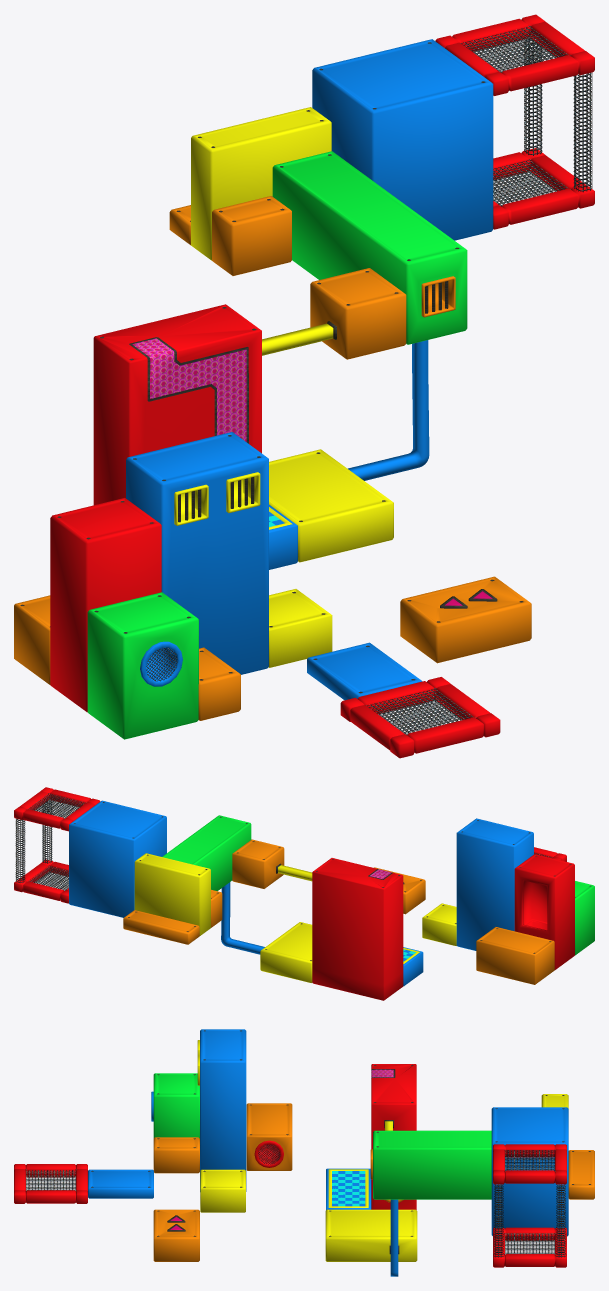
File: ToyFactoryStartPlanet.obj
The picture shows the model from 3 angles, top to bottom: view 1: azimuth 30°, elevation 25°; view 2: azimuth 150°, elevation 25°; view 3: azimuth 270°, elevation 25°; orthographic projection. The views are drawn at different scales.
Visible parts, largest first — view 1: Plane.000_Plane.094, Plane.006_Plane.107, Plane.008_Plane.109, Plane.007_Plane.108, Plane.004_Plane.105, Plane.003_Plane.104, Plane.002_Plane.103, Plane.001_Plane.102; view 2: Plane.006_Plane.107, Plane.000_Plane.094, Plane.007_Plane.108, Plane.004_Plane.105, Plane.008_Plane.109, Plane.003_Plane.104; view 3: Plane.000_Plane.094, Plane.008_Plane.109, Plane.006_Plane.107, Plane.004_Plane.105, Plane.007_Plane.108, Plane.003_Plane.104, Plane.005_Plane.106, Plane.001_Plane.102.
Part boxes in pixels (x1=…): Plane.000_Plane.094: x1=126, y1=39, x2=493, y2=700; Plane.006_Plane.107: x1=50, y1=14, x2=594, y2=758; Plane.008_Plane.109: x1=87, y1=151, x2=467, y2=739; Plane.007_Plane.108: x1=174, y1=107, x2=393, y2=667; Plane.004_Plane.105: x1=14, y1=196, x2=531, y2=720; Plane.003_Plane.104: x1=146, y1=26, x2=592, y2=734; Plane.002_Plane.103: x1=132, y1=338, x2=492, y2=605; Plane.001_Plane.102: x1=20, y1=42, x2=523, y2=693; Plane.006_Plane.107: x1=14, y1=787, x2=574, y2=1000; Plane.000_Plane.094: x1=69, y1=800, x2=533, y2=986; Plane.007_Plane.108: x1=134, y1=853, x2=456, y2=982; Plane.004_Plane.105: x1=123, y1=839, x2=554, y2=984; Plane.008_Plane.109: x1=162, y1=815, x2=594, y2=955; Plane.003_Plane.104: x1=15, y1=793, x2=552, y2=890; Plane.000_Plane.094: x1=88, y1=1029, x2=568, y2=1276; Plane.008_Plane.109: x1=153, y1=1073, x2=491, y2=1199; Plane.006_Plane.107: x1=14, y1=1064, x2=566, y2=1267; Plane.004_Plane.105: x1=153, y1=1103, x2=594, y2=1261; Plane.007_Plane.108: x1=197, y1=1040, x2=568, y2=1261; Plane.003_Plane.104: x1=25, y1=1144, x2=565, y2=1257; Plane.005_Plane.106: x1=332, y1=1171, x2=365, y2=1206; Plane.001_Plane.102: x1=91, y1=1030, x2=590, y2=1254.
Size of the model in its own units: 4633 by 1808 by 5015.
